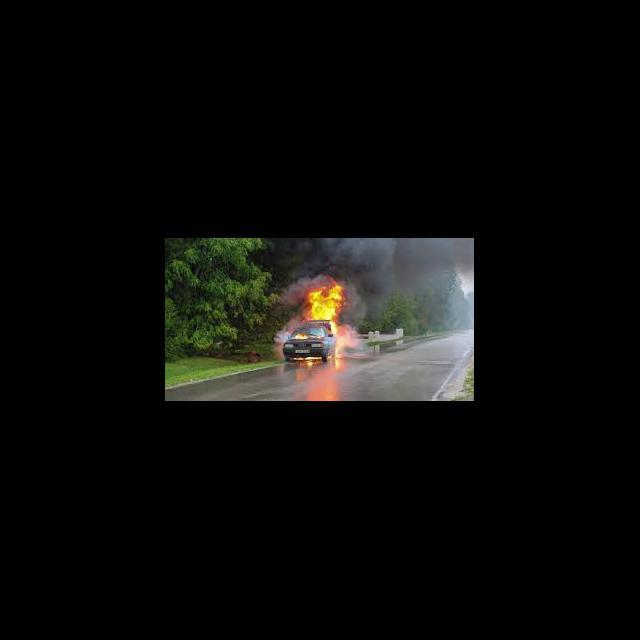Fire: (306, 285, 344, 322), (334, 340, 344, 360), (293, 332, 310, 340), (330, 322, 340, 333)
Smoke: (299, 240, 458, 282), (350, 282, 390, 320)
